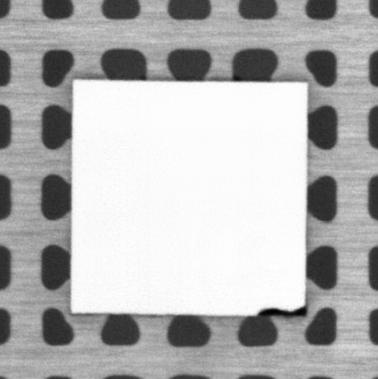DIE_BROKEN: (255, 304, 310, 318)
